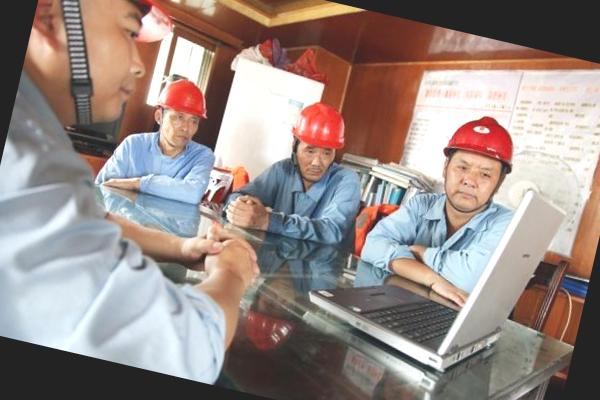helmet: (442, 102, 528, 169), (282, 98, 358, 161), (158, 72, 213, 123)
person: (0, 0, 190, 359), (353, 90, 546, 310), (221, 88, 381, 256), (106, 64, 245, 222)
